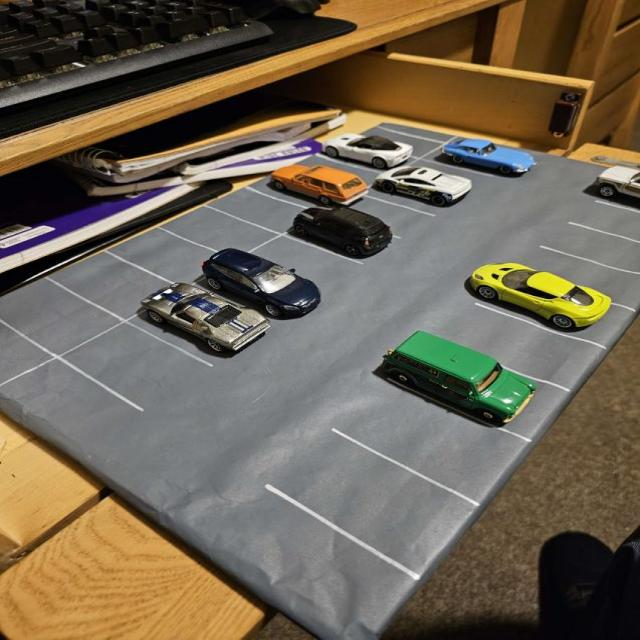Empty: (262, 429, 482, 584), (327, 383, 538, 508), (441, 303, 610, 395), (57, 317, 214, 410), (0, 357, 147, 456), (0, 275, 128, 360), (45, 250, 183, 324), (509, 243, 640, 315), (105, 225, 244, 289), (158, 203, 290, 259), (248, 235, 370, 289), (533, 220, 640, 280), (202, 188, 323, 237), (335, 195, 442, 240), (561, 201, 640, 247)
Taken: (384, 343, 574, 442), (120, 283, 281, 366), (472, 276, 636, 348), (183, 253, 318, 322), (275, 209, 404, 264), (244, 164, 368, 213), (349, 169, 478, 216), (413, 140, 537, 177), (314, 135, 421, 175), (589, 169, 640, 211)
